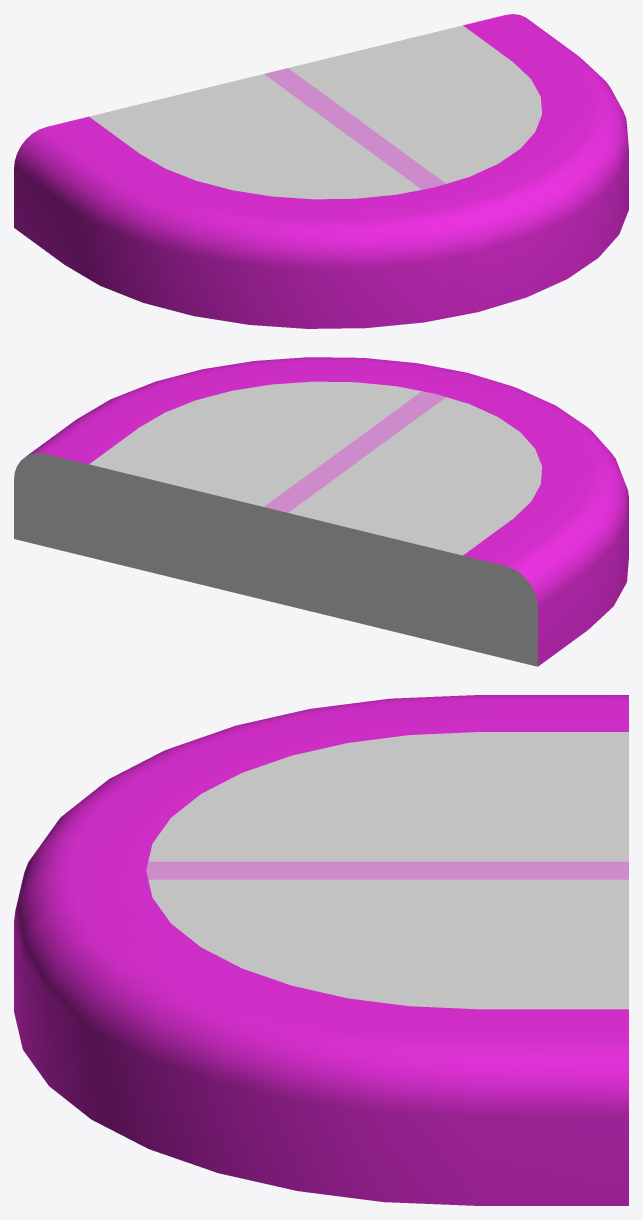
Rendered from TransportWayRoad2.fbx.
3 renders of one model, top to bottom at view 1: azimuth 30°, elevation 25°; view 2: azimuth 150°, elevation 25°; view 3: azimuth 270°, elevation 25°, orthographic. The views are drawn at different scales.
Visible parts, largest first — view 1: TransportWay1; view 2: TransportWay1; view 3: TransportWay1.
Part boxes in pixels (x1,y1,x2,y2): TransportWay1: [14, 14, 628, 328]; TransportWay1: [14, 357, 628, 666]; TransportWay1: [14, 695, 628, 1205].
Bounding box in the file's own units: 11.8 × 2 × 7.9.
